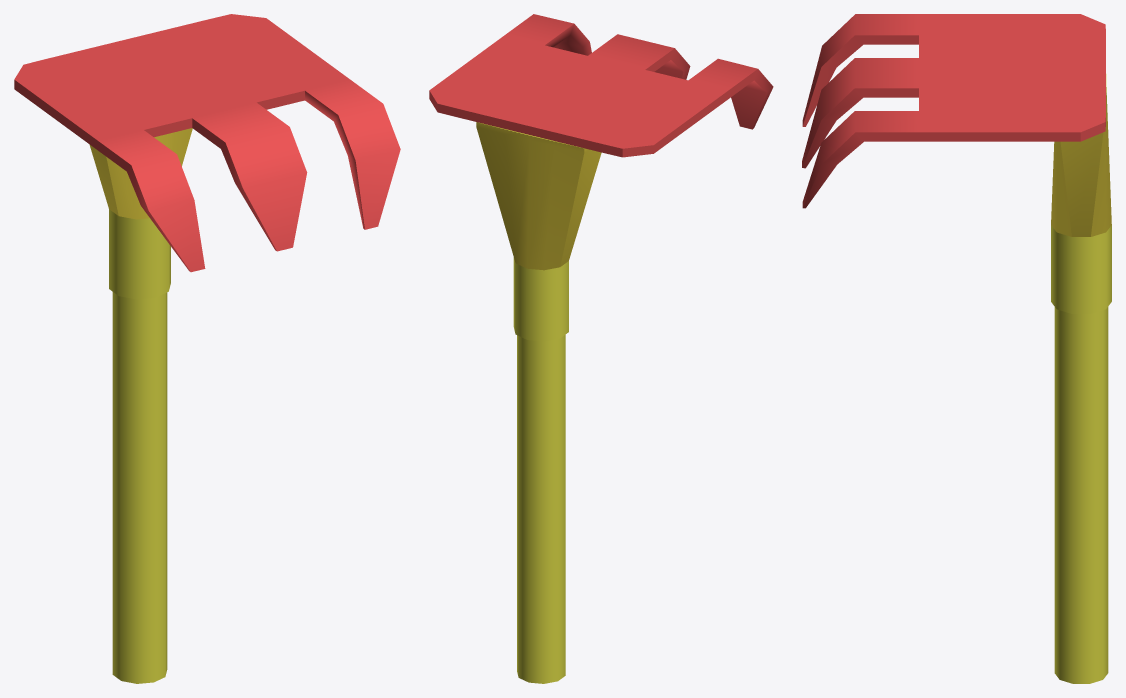
File: Hark.fbx
3 views of the same model, side by side, from view 1: azimuth 30°, elevation 25°; view 2: azimuth 150°, elevation 25°; view 3: azimuth 270°, elevation 25° (orthographic). The views are drawn at different scales.
Visible parts, largest first — view 1: harkkop, steel, opzet; view 2: harkkop, steel, opzet; view 3: harkkop, steel, opzet.
Part boxes in pixels (bbox=[...]): harkkop: bbox=[14, 14, 400, 272]; steel: bbox=[109, 209, 170, 683]; opzet: bbox=[89, 128, 192, 219]; harkkop: bbox=[429, 14, 773, 157]; steel: bbox=[479, 122, 583, 683]; opzet: bbox=[476, 122, 601, 270]; harkkop: bbox=[802, 14, 1105, 208]; steel: bbox=[1051, 74, 1111, 683]; opzet: bbox=[1051, 87, 1111, 236].
Size of the model in its own units: 74.72 by 177 by 82.67.
